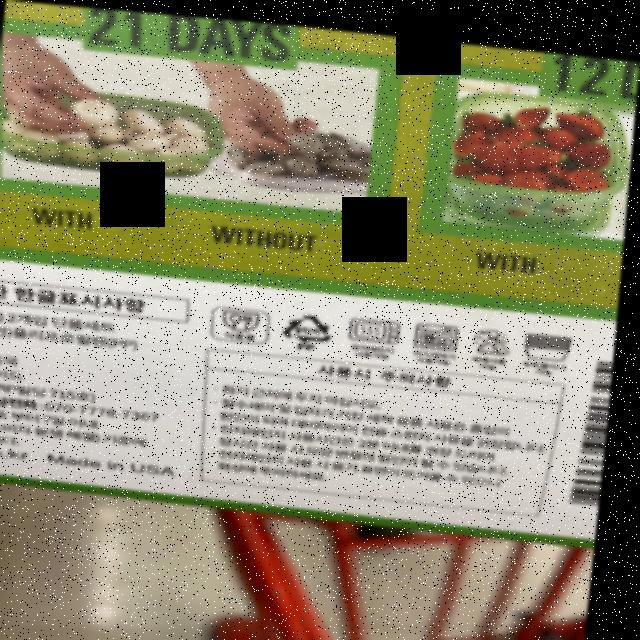Plastic: (285, 305, 340, 339)
